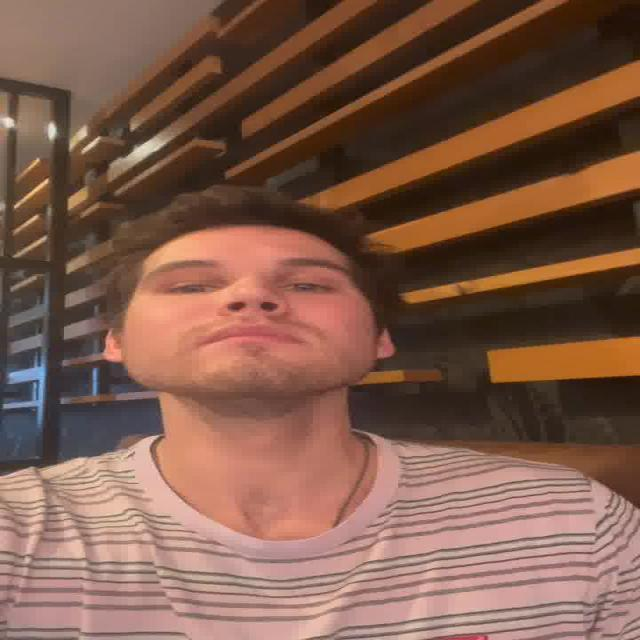earlobe: (101, 326, 122, 363), (375, 324, 395, 359)
